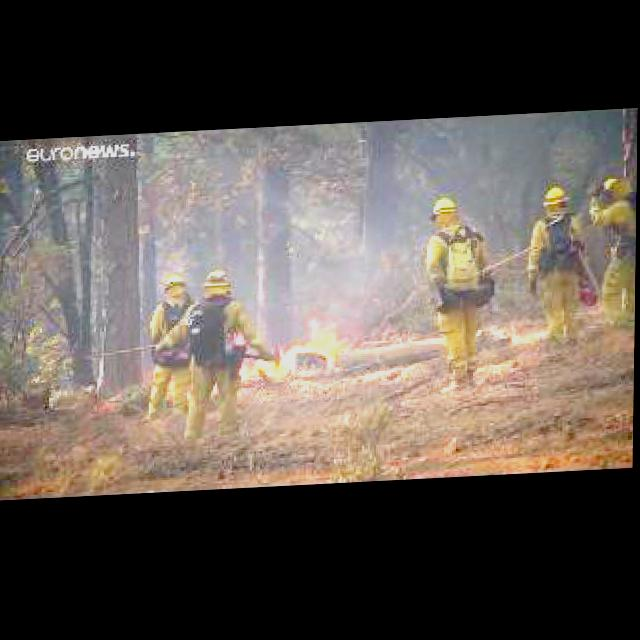helmet: (247, 317, 364, 386), (169, 381, 175, 397)
